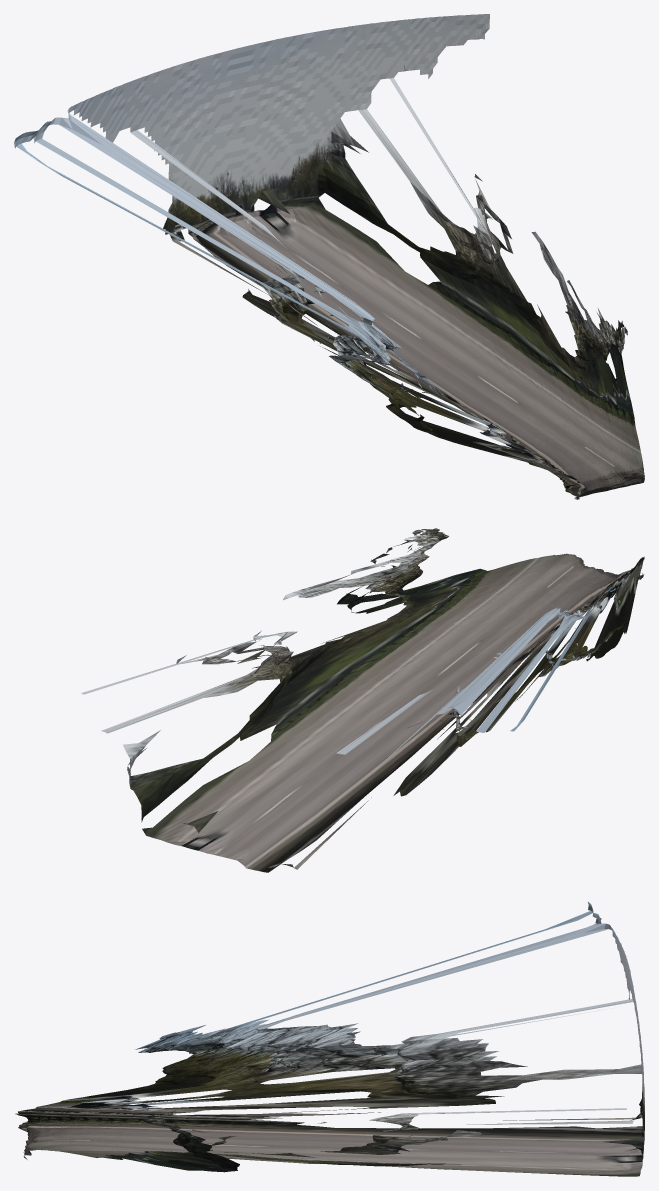
3 views of the same model, one above another, from view 1: azimuth 30°, elevation 25°; view 2: azimuth 150°, elevation 25°; view 3: azimuth 270°, elevation 25° (orthographic). The views are drawn at different scales.
Visible parts, largest first — view 1: defaultobject; view 2: defaultobject; view 3: defaultobject.
Part boxes in pixels (box(x1,y1,x2,y2)): defaultobject: box(14, 14, 644, 499); defaultobject: box(81, 528, 644, 872); defaultobject: box(15, 902, 644, 1176).
Size of the model in its own units: 33 by 12.09 by 44.91.
Materials: 1 (1 with a texture image).
